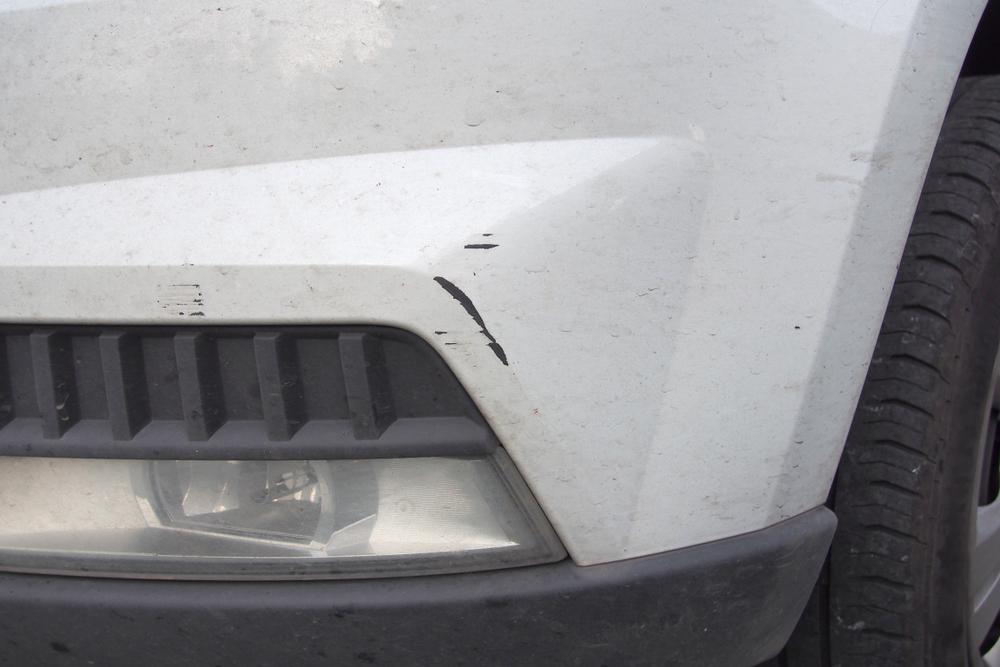scratch: (434, 219, 517, 381), (157, 259, 211, 322)
